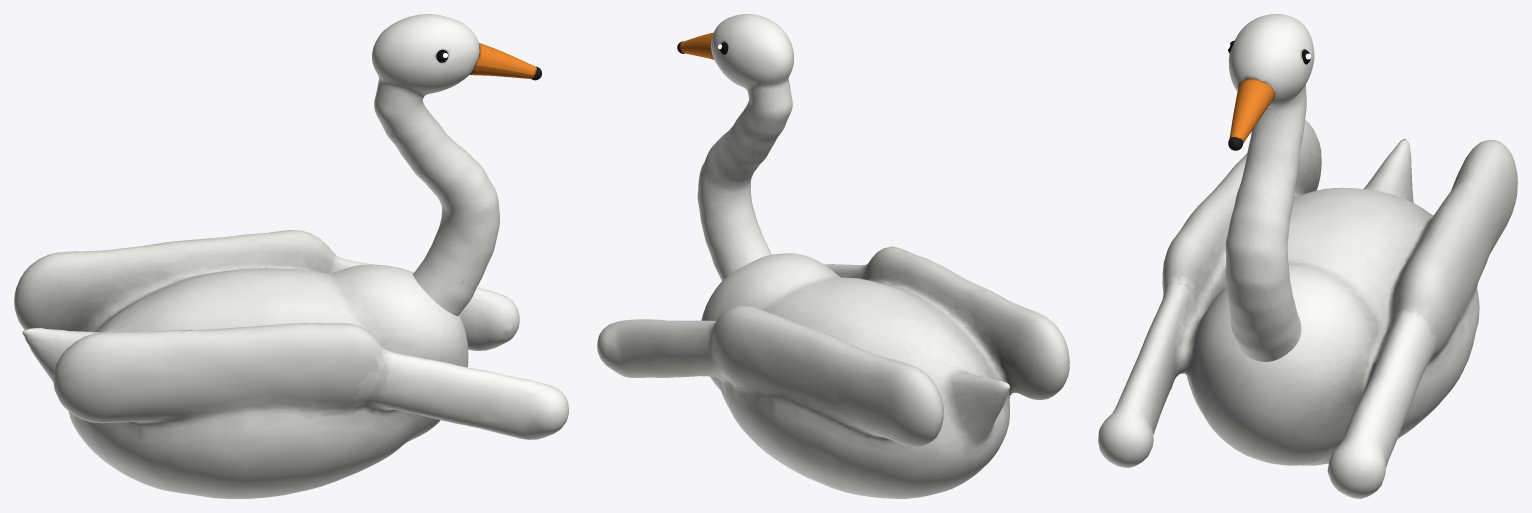
File: var-ar-provrummet.glb
The picture shows the model from 3 angles, left to right: view 1: azimuth 30°, elevation 25°; view 2: azimuth 150°, elevation 25°; view 3: azimuth 270°, elevation 25°; orthographic projection. The views are drawn at different scales.
Visible parts, largest first — view 1: cisne__r0, pescoco__r0, pescoco__r1; view 2: cisne__r0, pescoco__r0, pescoco__r1; view 3: cisne__r0, pescoco__r0, pescoco__r1.
Part boxes in pixels (x1,y1,x2,y2): cisne__r0: (14,230,568,498); pescoco__r0: (372,14,499,315); pescoco__r1: (470,43,536,78); cisne__r0: (597,246,1069,498); pescoco__r0: (697,14,793,280); pescoco__r1: (680,32,714,59); cisne__r0: (1098,119,1517,498); pescoco__r0: (1225,14,1314,361); pescoco__r1: (1229,79,1274,143).
Size of the model in its own units: 1.47 by 1.31 by 1.01.
